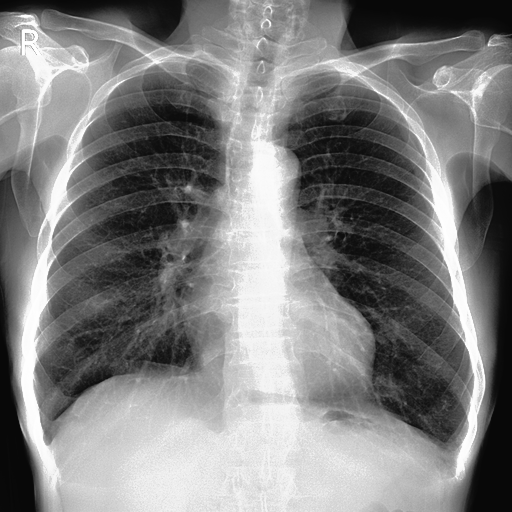Calcification: (28, 398, 65, 447), (427, 428, 470, 467)
Pleural effusion: (28, 398, 65, 447), (427, 428, 470, 467)
